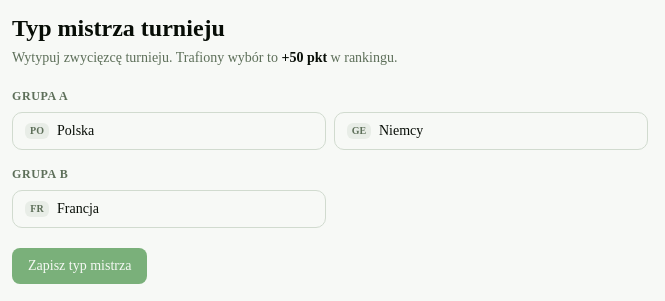
ChampionPicker › selects a team on click and enables Save button
What coordinates should you click on to do the following:
click the text "Polska"
I would click on:
 (76, 131)
Its box is 57,121 -> 94,141.
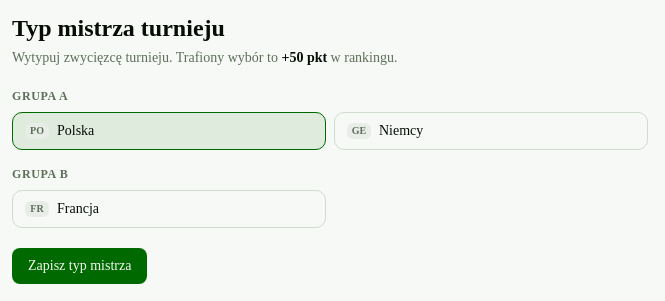
Check: the button "Zapisz typ mistrza" is enabled, box 12,248 -> 147,284
